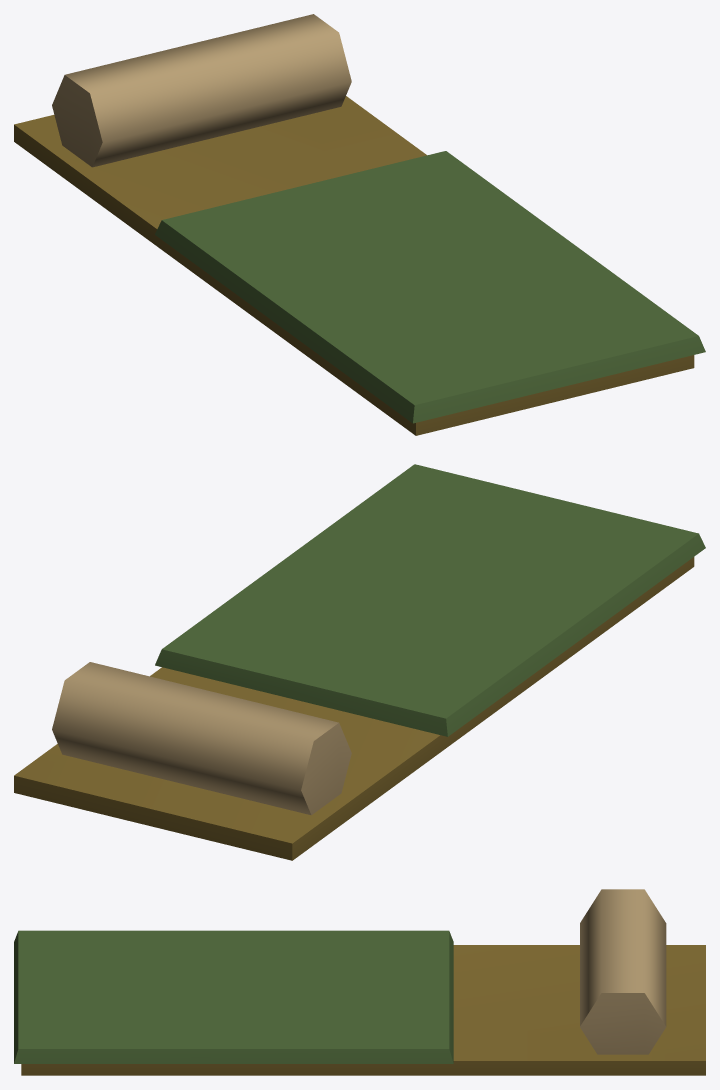
The model's file is bedroll.glb.
The picture shows the model from 3 angles, top to bottom: view 1: azimuth 30°, elevation 25°; view 2: azimuth 150°, elevation 25°; view 3: azimuth 270°, elevation 25°; orthographic projection. The views are drawn at different scales.
Visible parts, largest first — view 1: bedroll; view 2: bedroll; view 3: bedroll.
Part boxes in pixels (x1,y1,x2,y2): bedroll: [14, 14, 705, 435]; bedroll: [14, 464, 705, 860]; bedroll: [14, 889, 705, 1075].
Bounding box in the file's own units: 0.8 × 0.2339 × 1.92.
